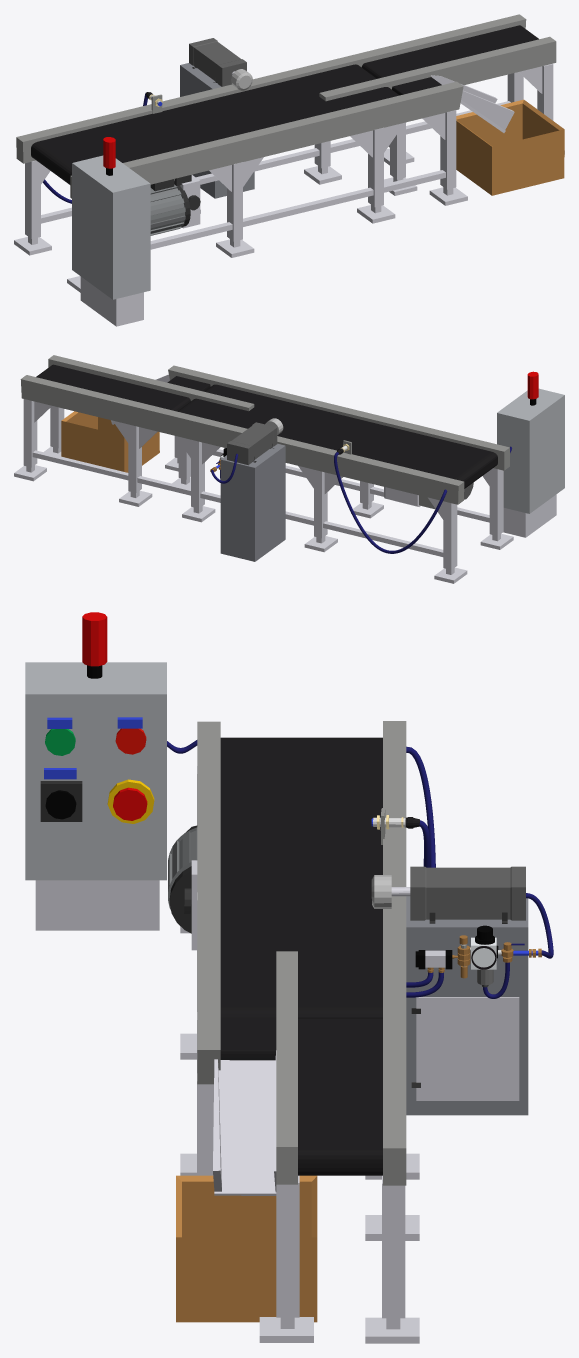
Rendered from машинка брум брум.fbx.
The picture shows the model from 3 angles, top to bottom: view 1: azimuth 30°, elevation 25°; view 2: azimuth 150°, elevation 25°; view 3: azimuth 270°, elevation 25°; orthographic projection. The views are drawn at different scales.
Visible parts, largest first — view 1: конвеер.003, Куб.027, ьеьеь.003, конвеер.002, Коробка, конвеер.001, конвеер.005, балки ножки, конвеер, Куб.003, ьеьеь.002, мотор.007 (+5 smaller); view 2: Куб.027, конвеер.003, конвеер.001, ьеьеь.003, Куб.016, Коробка, конвеер.002, балки ножки, конвеер, конвеер.005, Куб.003, ьеьеь.002 (+4 smaller); view 3: конвеер.003, ьеьеь.003, Коробка, конвеер, Куб.027, Куб.004, Куб.016, конвеер.001, конвеер.002, Куб, ьеьеь.002, Куб.003 (+9 smaller).
Part boxes in pixels (<box>): конвеер.003: <box>31,64,399,184</box>; Куб.027: <box>14,63,564,292</box>; ьеьеь.003: <box>72,155,150,299</box>; конвеер.002: <box>70,81,463,198</box>; Коробка: <box>456,99,564,195</box>; конвеер.001: <box>16,14,526,163</box>; конвеер.005: <box>319,36,556,101</box>; балки ножки: <box>41,101,510,249</box>; конвеер: <box>361,25,538,78</box>; Куб.003: <box>189,38,246,86</box>; ьеьеь.002: <box>80,276,143,326</box>; мотор.007: <box>150,184,185,235</box>; Куб.027: <box>14,399,513,583</box>; конвеер.003: <box>177,384,497,488</box>; конвеер.001: <box>20,375,464,504</box>; ьеьеь.003: <box>497,388,564,513</box>; Куб.016: <box>220,443,285,561</box>; Коробка: <box>61,411,159,472</box>; конвеер.002: <box>168,365,509,470</box>; балки ножки: <box>32,449,489,556</box>; конвеер: <box>36,364,190,411</box>; конвеер.005: <box>48,355,254,411</box>; Куб.003: <box>227,422,277,465</box>; ьеьеь.002: <box>503,494,556,537</box>; конвеер.003: <box>220,737,382,1018</box>; ьеьеь.003: <box>25,662,166,880</box>; Коробка: <box>176,1175,317,1322</box>; конвеер: <box>298,1018,382,1175</box>; Куб.027: <box>180,766,419,1343</box>; Куб.004: <box>416,997,519,1100</box>; Куб.016: <box>406,896,528,1115</box>; конвеер.001: <box>383,721,406,1185</box>; конвеер.002: <box>197,721,220,1084</box>; Куб: <box>214,1060,276,1195</box>; ьеьеь.002: <box>35,880,159,930</box>; Куб.003: <box>410,866,525,920</box>.
Size of the model in its own units: 1179 by 373 by 596.
